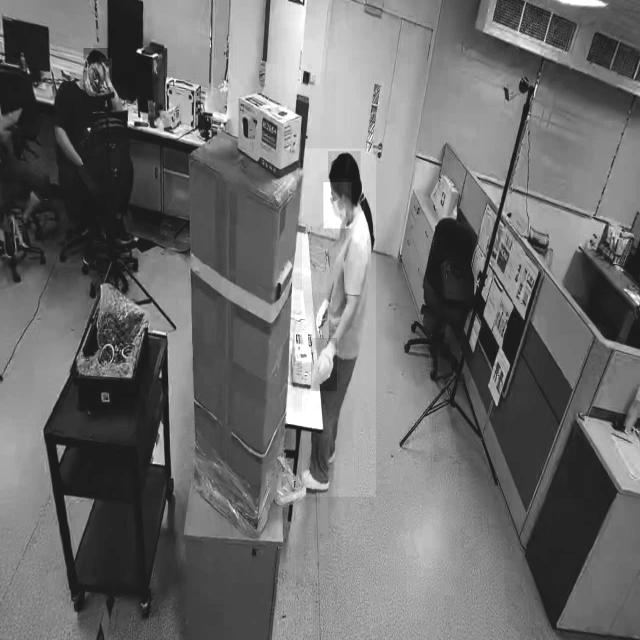face_mask: (324, 182, 352, 228)
hand_glove: (311, 338, 337, 392), (312, 292, 333, 337)
hand_noglove: (100, 58, 112, 88)
head_nohelmet: (328, 151, 361, 180), (84, 48, 110, 61)
person: (302, 148, 376, 498), (54, 39, 126, 207)
shoes: (295, 462, 331, 494), (1, 216, 17, 260), (15, 213, 33, 251)
